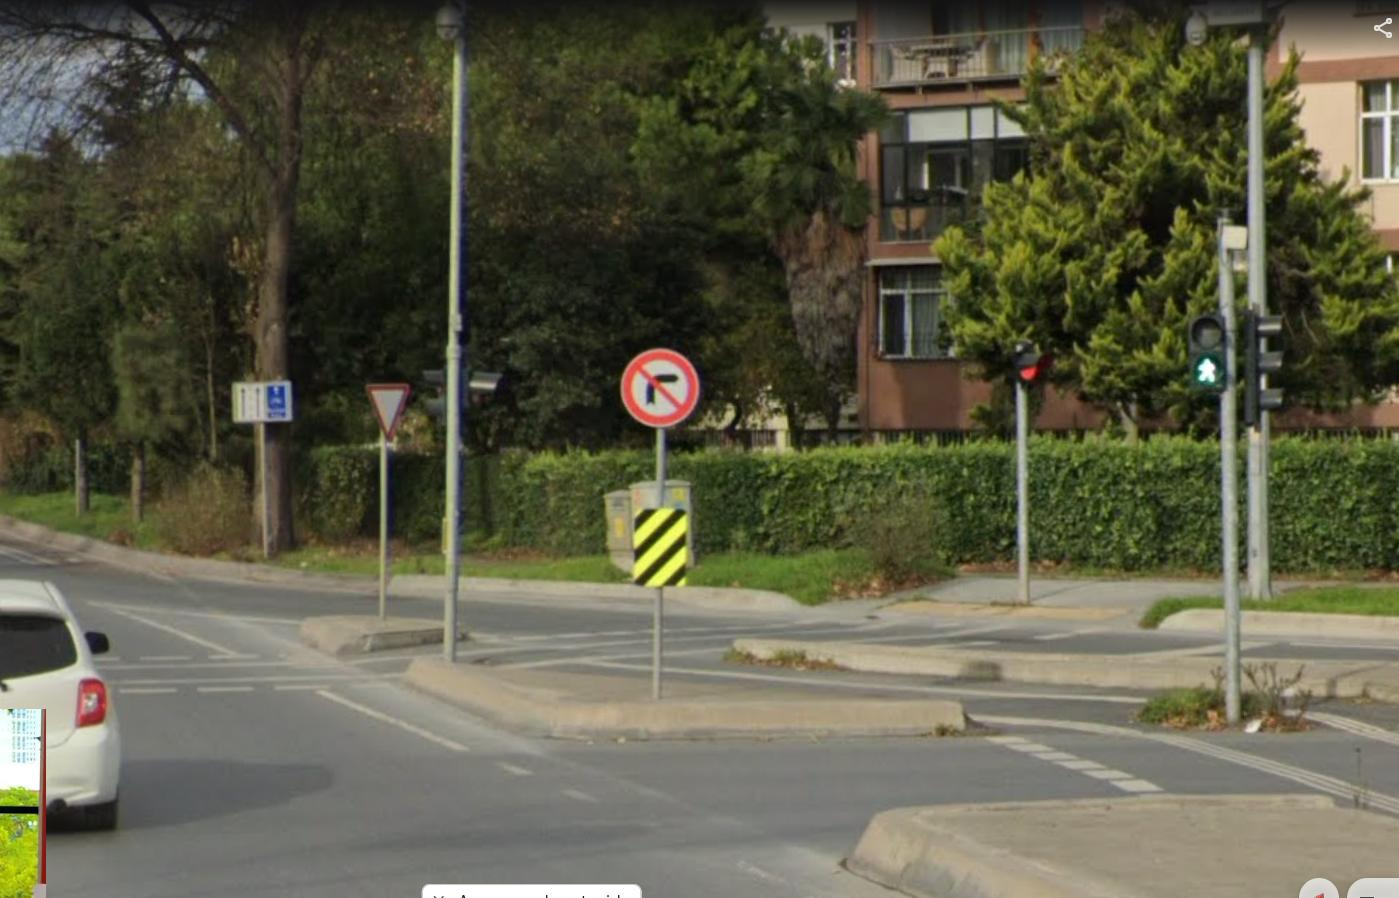rightturnsareforbidden: (623, 347, 699, 428)
